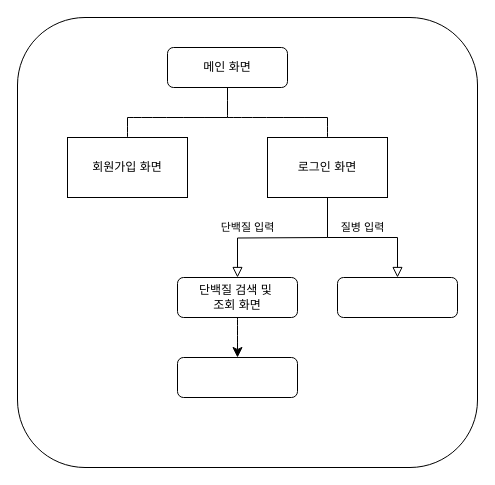
Some shapes in this 495 by 485 pixel diagram are drawn without their labels. Here are the shapes that lost their labels. From the top down, the box of each, then its label:
(336, 276, 458, 318): 관련 단백질 목록 화면
(176, 356, 298, 398): 질병 예측 및 시각화 화면
